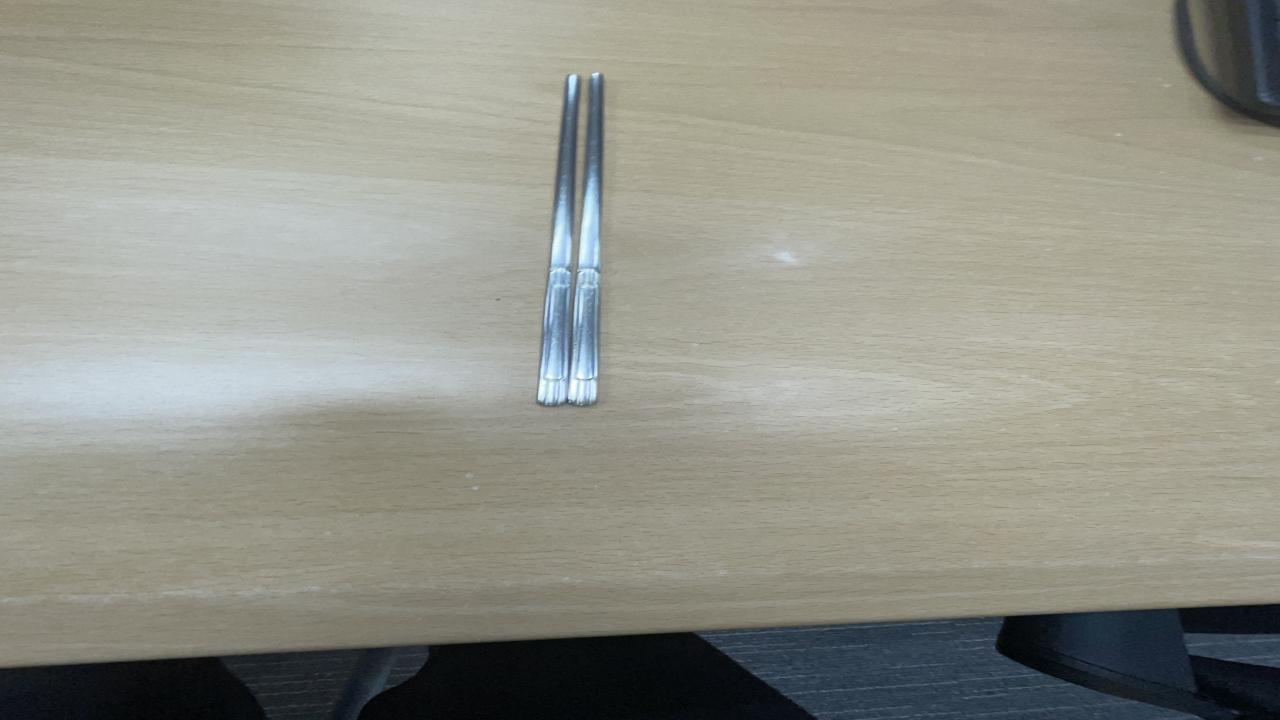chopstick: (538, 70, 610, 404)
